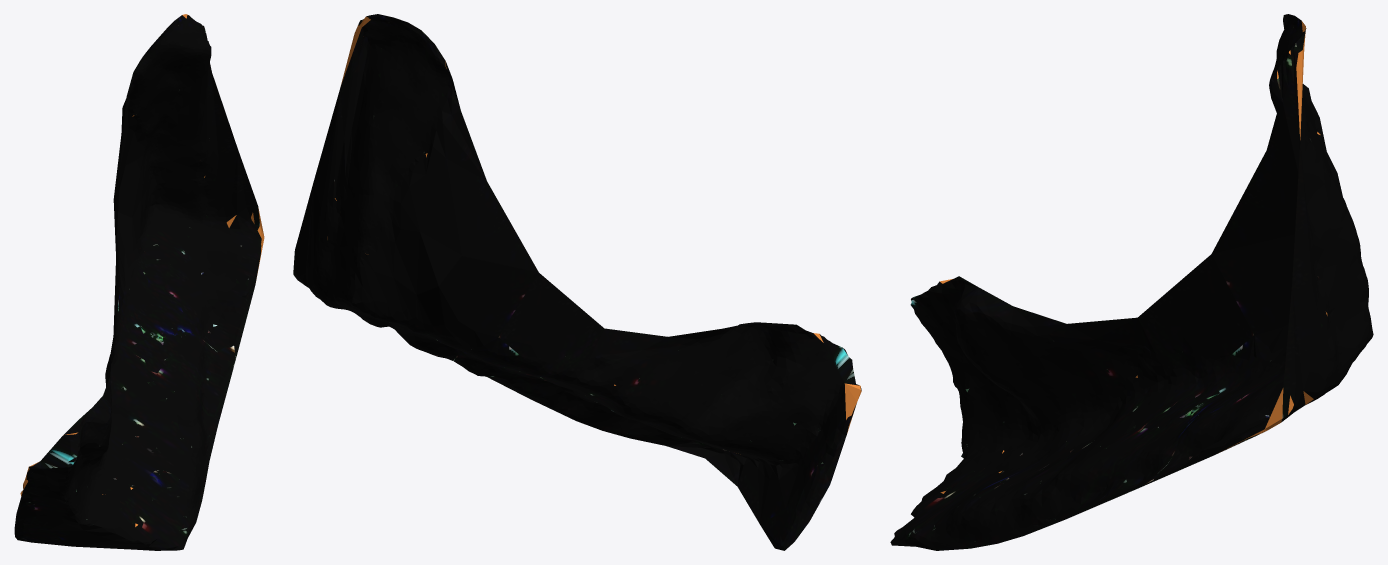
3 renders of one model, left to right at view 1: azimuth 30°, elevation 25°; view 2: azimuth 150°, elevation 25°; view 3: azimuth 270°, elevation 25°, orthographic. The views are drawn at different scales.
Parts seen in each view (by area): view 1: scene_textured; view 2: scene_textured; view 3: scene_textured.
Boxes of the visible parts, x1,y1,x2,y2 form: scene_textured: (14,14,264,550); scene_textured: (293,14,861,550); scene_textured: (890,14,1373,550).
Bounding box in the file's own units: 27.39 × 32.36 × 22.2.
Materials: 1 (1 with a texture image).
